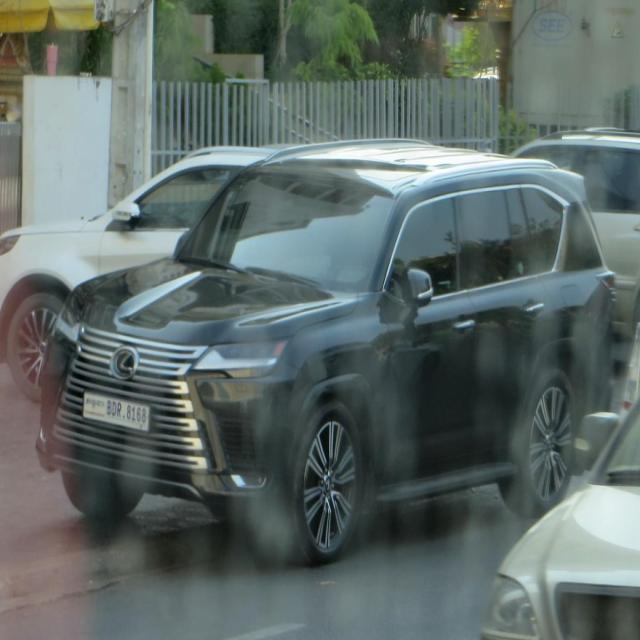Cambodia: (86, 396, 106, 411)
